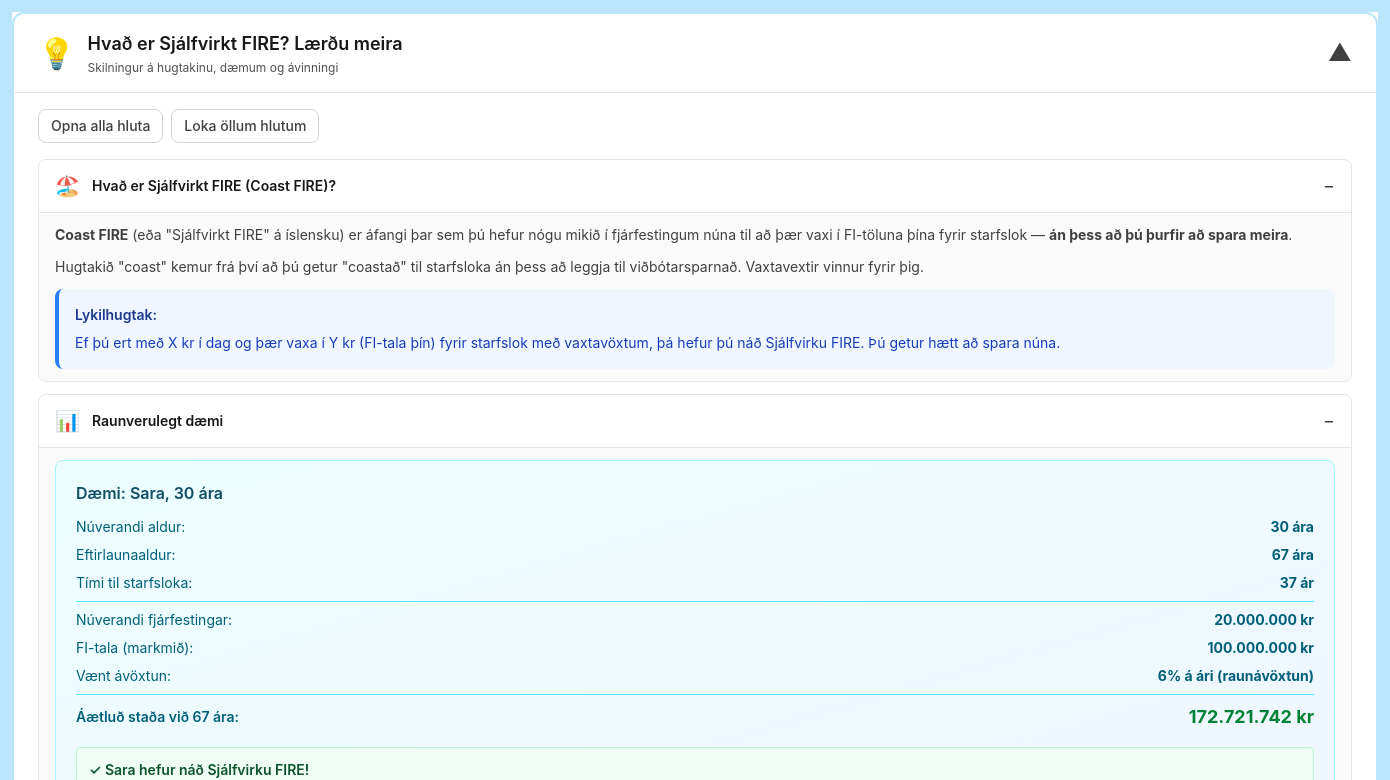
EducationalIntro › Section Expansion › toggles individual section expansion
The width and height of the screenshot is (1390, 780).
expect the text "Dæmi: Sara, 30 ára" is shown: met, box [76,483,223,503]
# Click to collapse
Click the button "📊 Raunverulegt dæmi −" at (158, 420), box [39,395,1351,447]
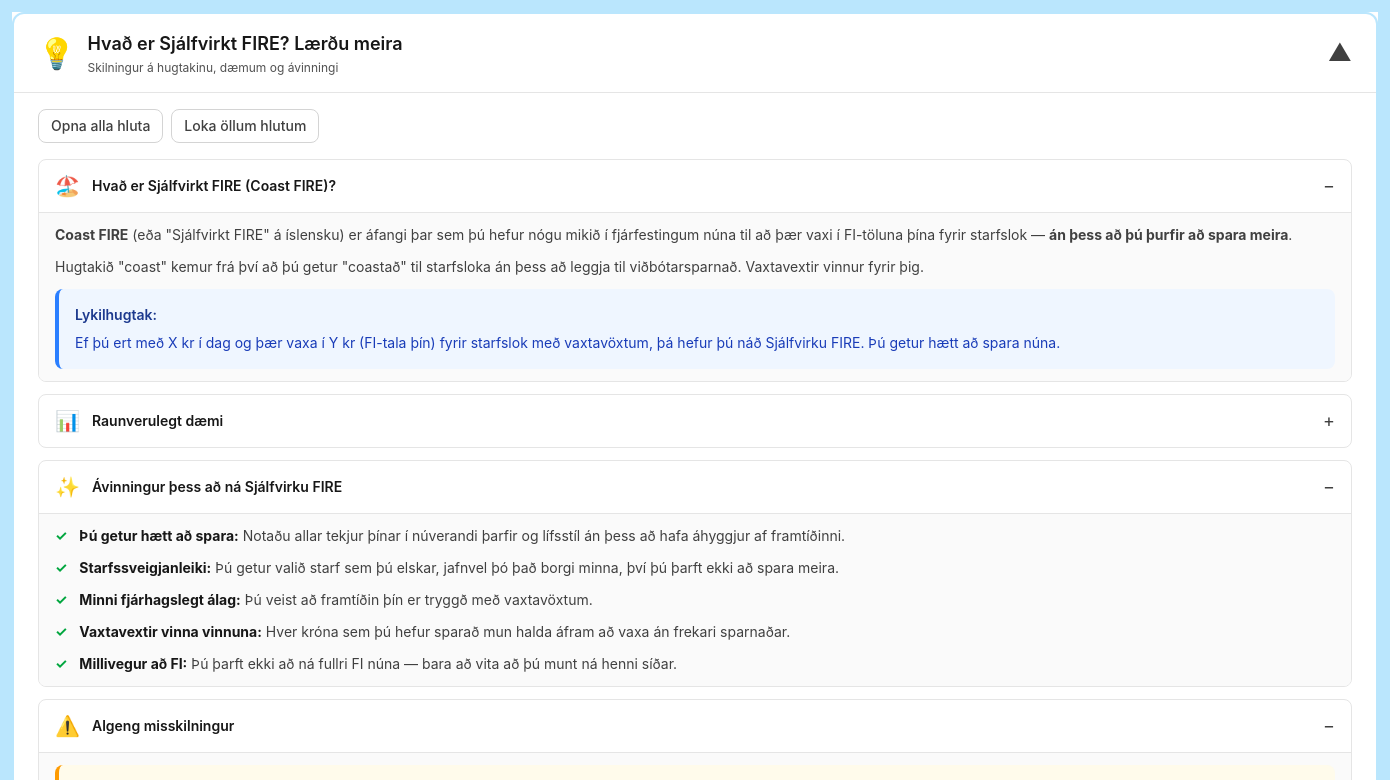
expect the text "Sara, 30 ára" is gone: met
# Click to expand again
Click the button "📊 Raunverulegt dæmi +" at (158, 420), box [39,395,1351,447]
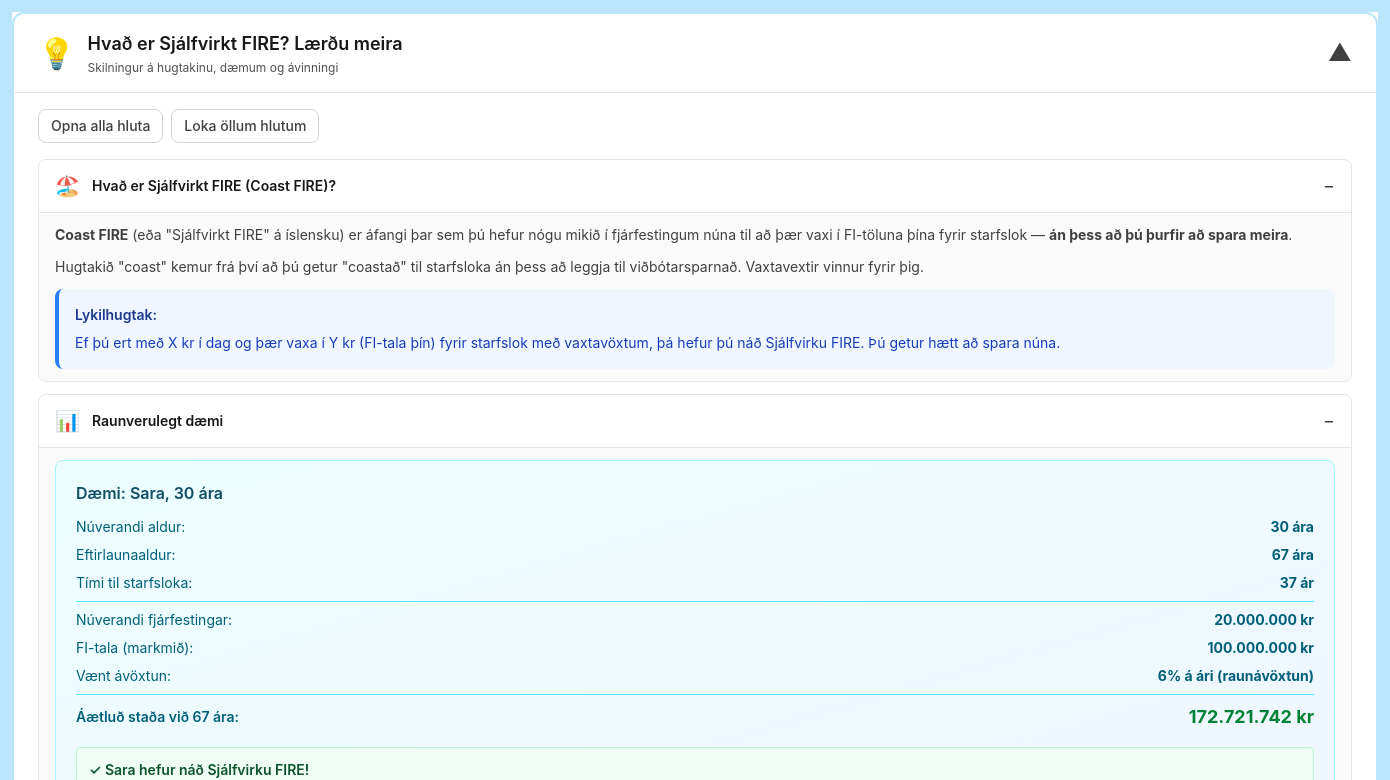
expect the text "Dæmi: Sara, 30 ára" is shown: met, box [76,483,223,503]
